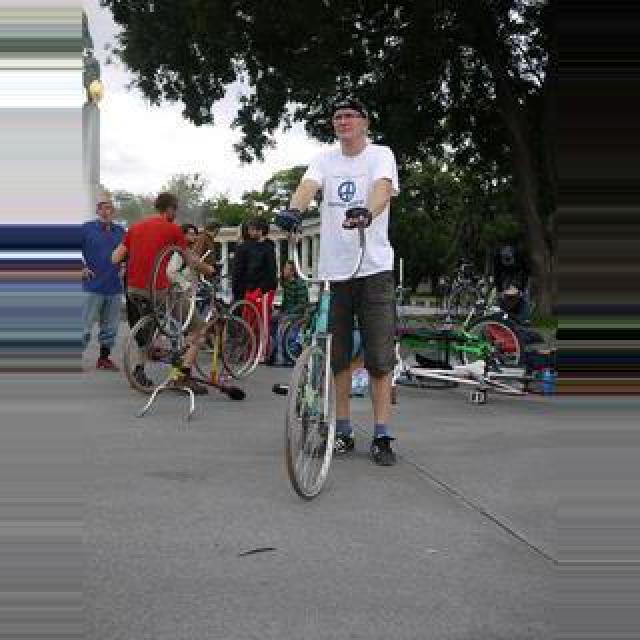MC-Bike: (272, 96, 404, 472), (126, 192, 214, 380), (80, 196, 130, 378), (230, 220, 278, 362), (274, 260, 310, 338)
Person: (282, 206, 374, 500), (124, 274, 262, 396), (396, 292, 516, 374)
